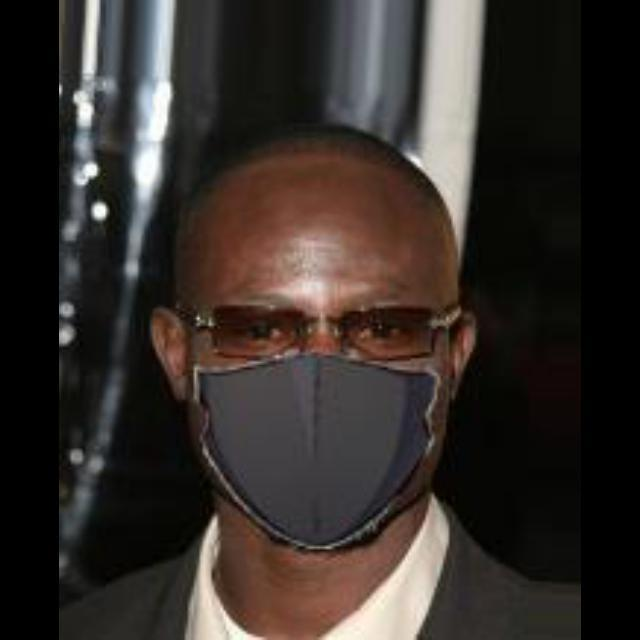suspicion: (164, 100, 488, 554)
